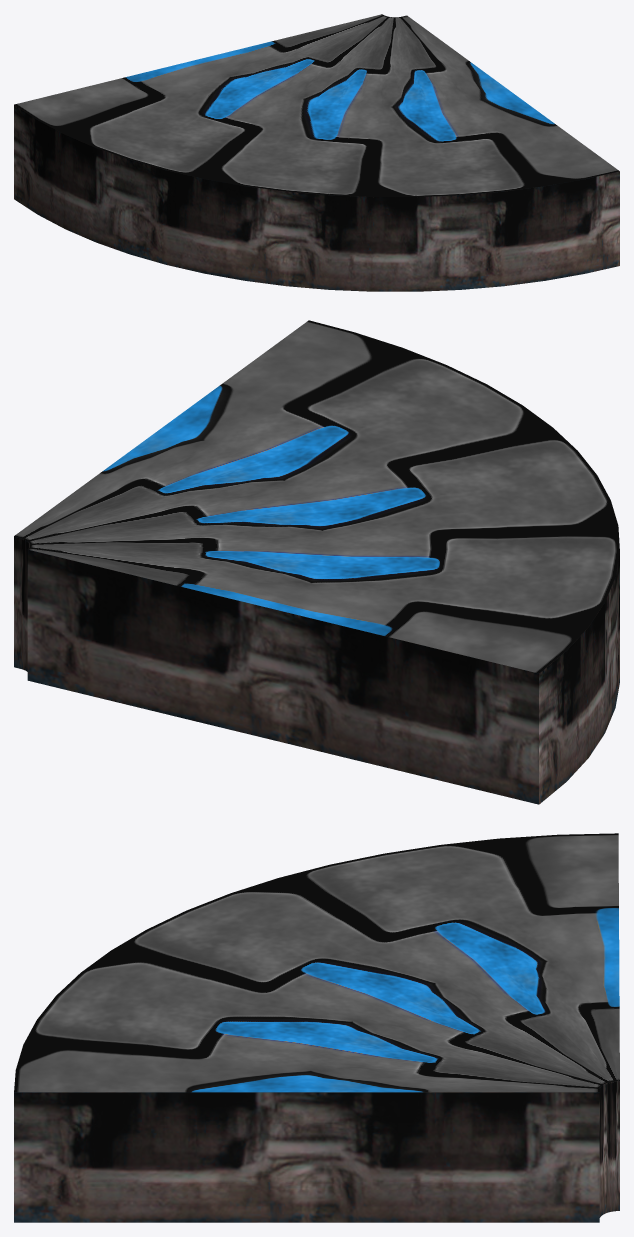
The model's file is belt-L.glb.
3 renders of one model, top to bottom at view 1: azimuth 30°, elevation 25°; view 2: azimuth 150°, elevation 25°; view 3: azimuth 270°, elevation 25°, orthographic. The views are drawn at different scales.
Visible parts, largest first — view 1: Cube; view 2: Cube; view 3: Cube.
Boxes of the visible parts, box(x1,y1,x2,y2) form: Cube: box(14, 14, 619, 291); Cube: box(14, 320, 619, 804); Cube: box(14, 833, 619, 1222).
Bounding box in the file's own units: 1.96 × 0.4586 × 1.94.
Materials: 2 (2 with a texture image).
